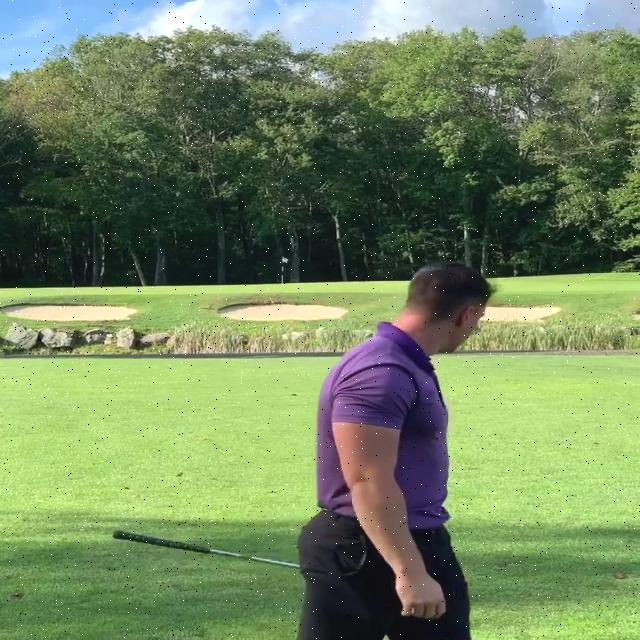golf club-handle: (111, 527, 305, 572)
